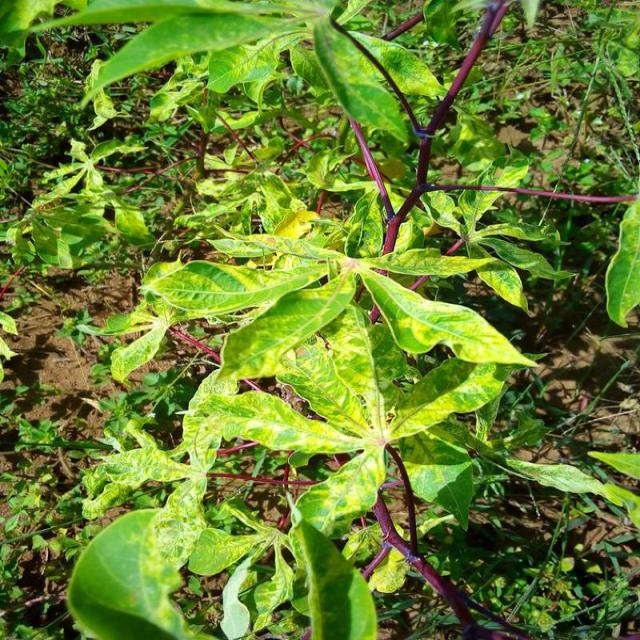cassava leaf: (66, 505, 192, 638)
